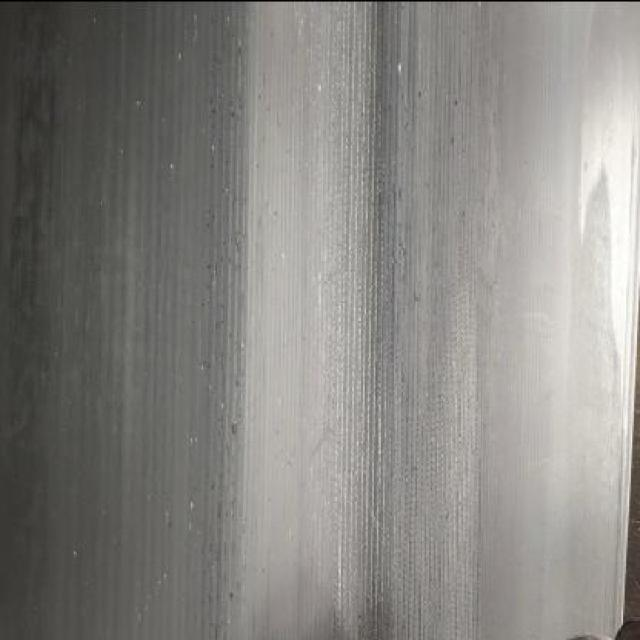Wear: (133, 0, 484, 640)
